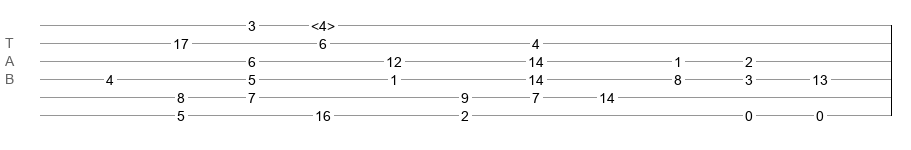0: (745, 108, 753, 118), (816, 108, 824, 118)
1: (390, 72, 398, 82), (674, 54, 682, 64)
12: (386, 54, 402, 64)
13: (812, 72, 828, 82)
14: (528, 72, 544, 82), (528, 54, 544, 64), (599, 90, 615, 100)
16: (315, 108, 331, 118)
17: (173, 36, 189, 46)
2: (461, 108, 469, 118), (745, 54, 753, 64)
3: (248, 18, 256, 28), (745, 72, 753, 82)
4: (106, 72, 114, 82), (532, 36, 540, 46)
5: (177, 108, 185, 118), (248, 72, 256, 82)
6: (248, 54, 256, 64), (319, 36, 327, 46)
7: (248, 90, 256, 100), (532, 90, 540, 100)
8: (177, 90, 185, 100), (674, 72, 682, 82)
9: (461, 90, 469, 100)
harmonic: (311, 18, 335, 28)
